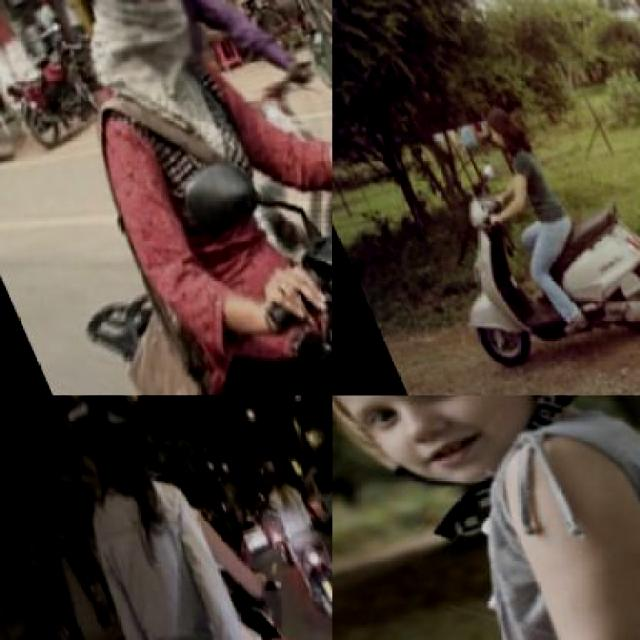With Helmet: (332, 395, 632, 554), (45, 396, 169, 492), (253, 440, 282, 478)
Without Helmet: (50, 0, 222, 103), (472, 97, 522, 154)
